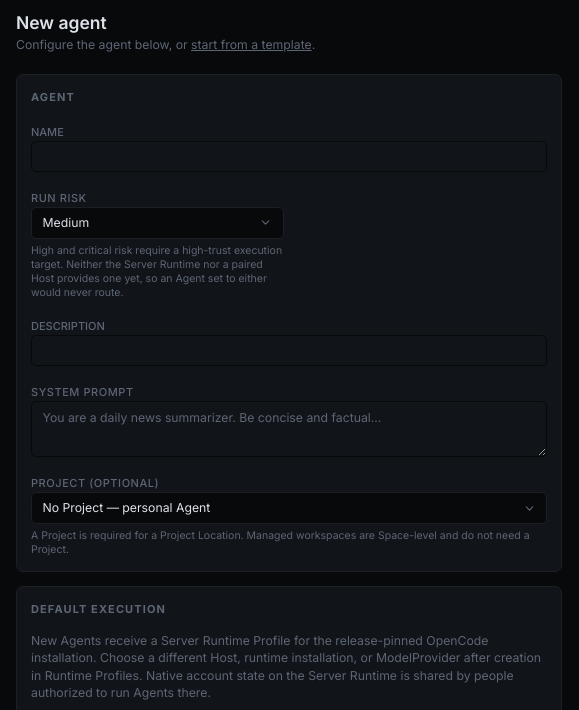
Test: AgentFormPage default runtime provisioning › offers no risk level that has no eligible execution target
Click the button with aria-label "Run risk": (157, 223) [31,207,284,238]
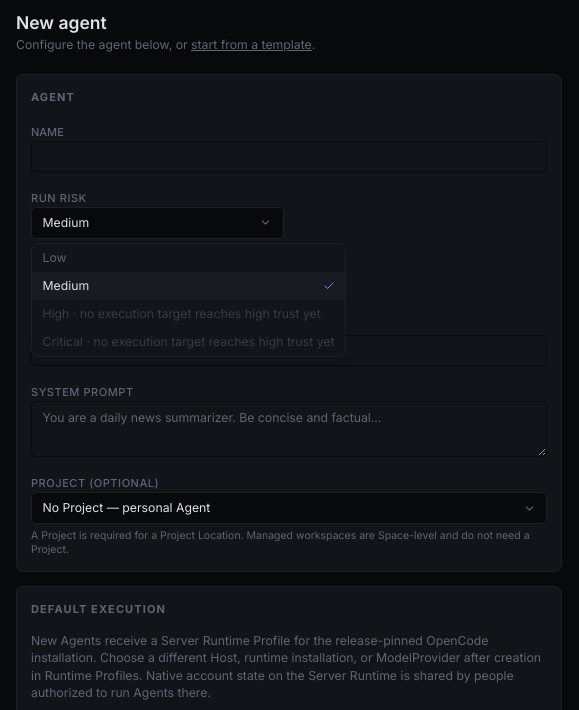
Check: the option "Low" is enabled, box [32,244,345,272]
Check: the option "Medium" is enabled, box [32,272,345,300]
Check: the option "High · no execution target reaches high trust yet" is disabled, box [32,300,345,328]
